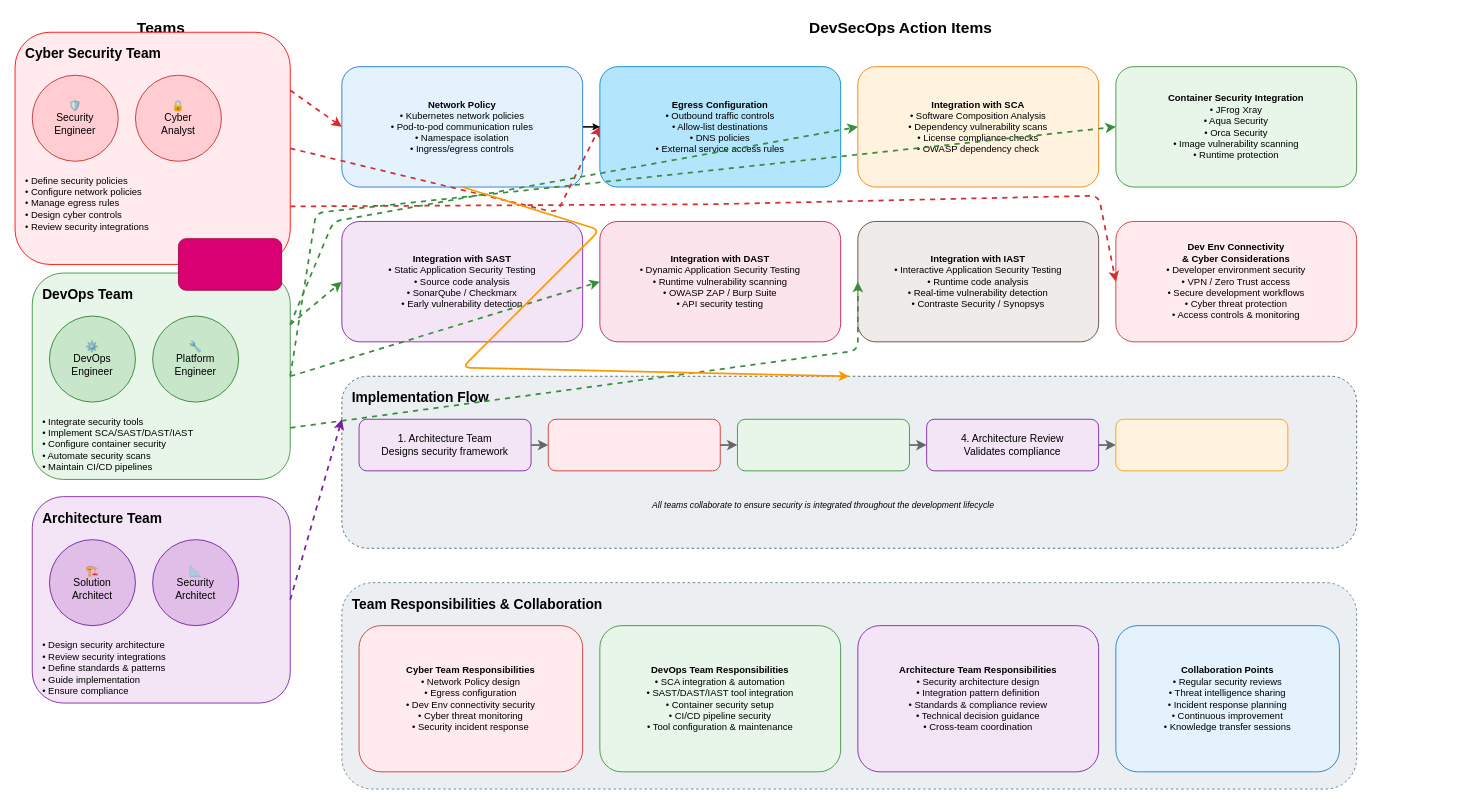
Some shapes in this 1475 by 804 pixel diagram are drawn without their labels. Each missing label, with the centre of its shape:
"2. Cyber Team Defines policies & controls" goes at point (633, 444).
"3. DevOps Team Implements integrations" goes at point (823, 444).
"5. Continuous Monitoring & Improvement" goes at point (1201, 444).
"DevSecops" goes at point (230, 264).
